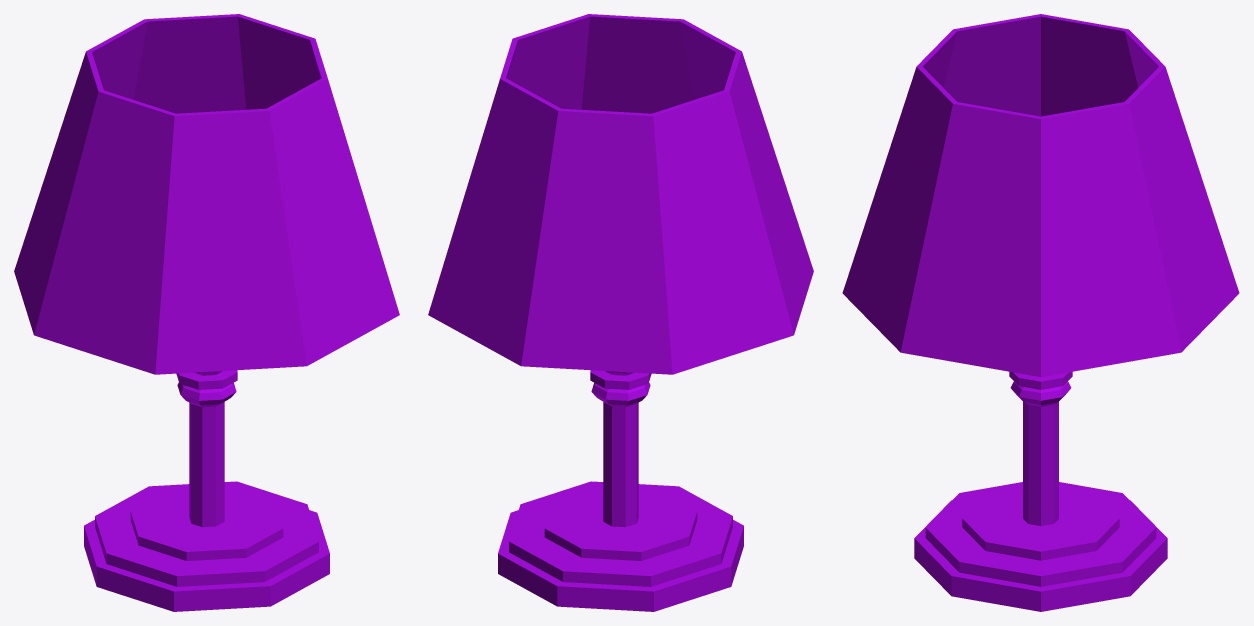
File: sm_sideLamp_low.fbx
The picture shows the model from 3 angles, left to right: view 1: azimuth 30°, elevation 25°; view 2: azimuth 150°, elevation 25°; view 3: azimuth 270°, elevation 25°; orthographic projection.
Visible parts, largest first — view 1: polySurface118; view 2: polySurface118; view 3: polySurface118.
Boxes of the visible parts, x1,y1,x2,y2 form: polySurface118: [14, 14, 399, 611]; polySurface118: [428, 14, 813, 611]; polySurface118: [842, 14, 1239, 611].
Size of the model in its own units: 182 by 248 by 182.
